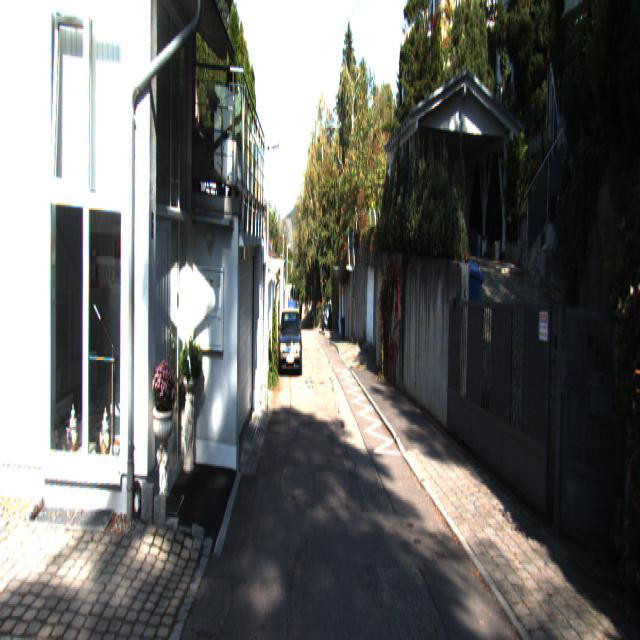Car: (278, 306, 302, 377)
